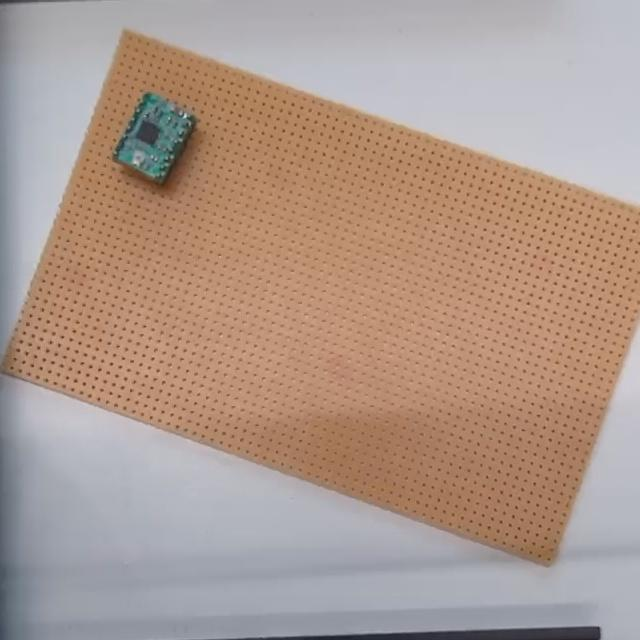Chip: (115, 92, 199, 187)
